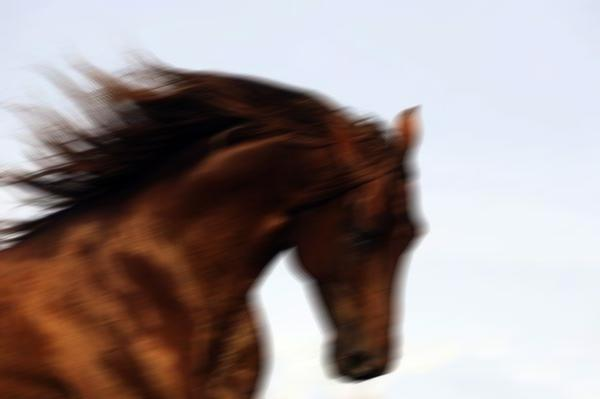horse: (0, 31, 424, 397)
